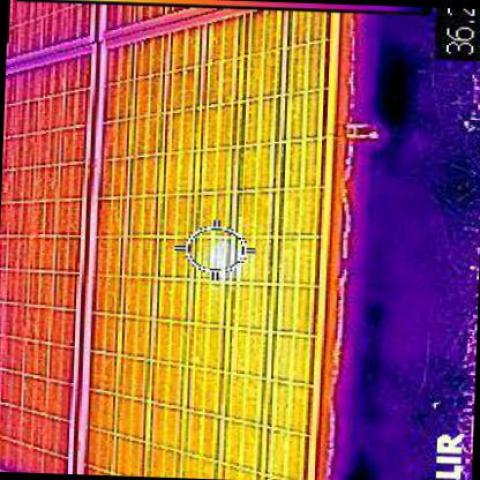fault: (210, 237, 229, 265)
